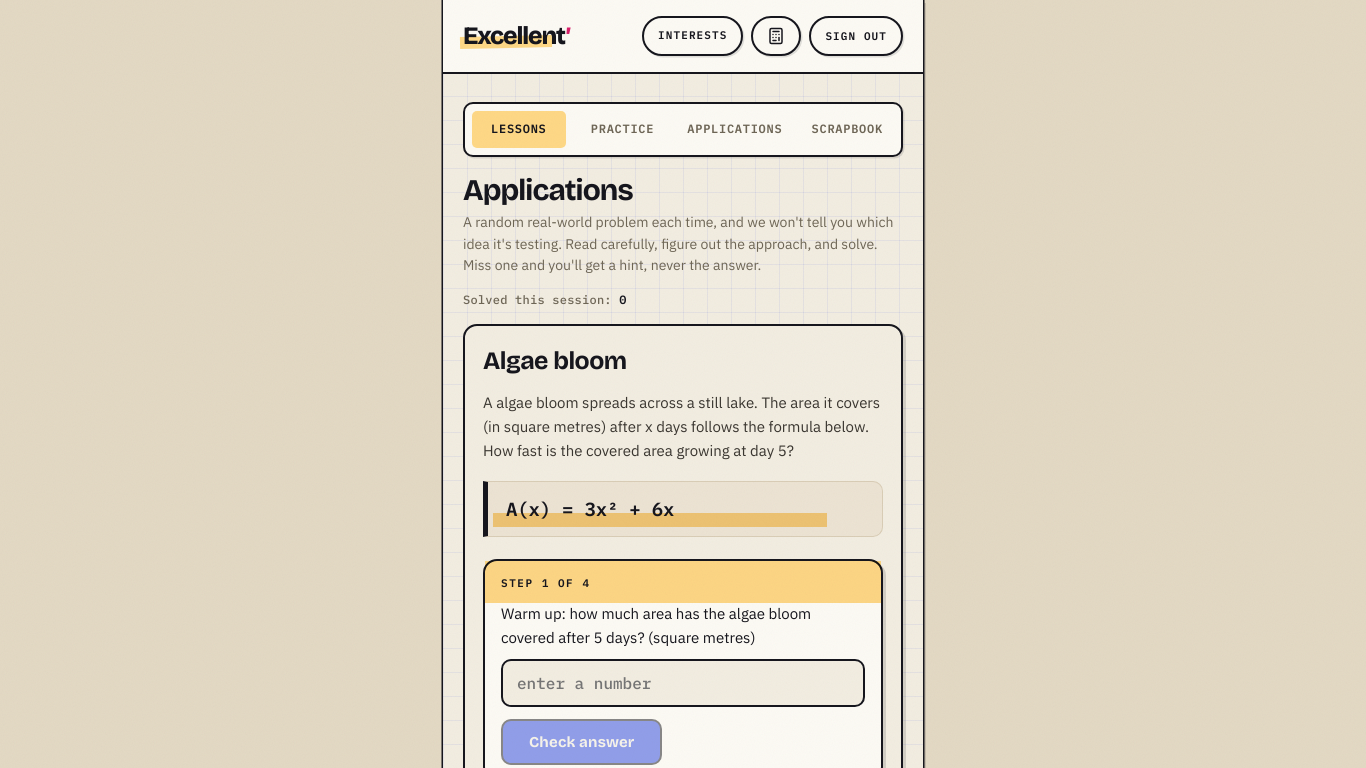
it: ApplicationsPage: shared AppHeader is wired in › opens the Calculator tool modal from the header on the unlocked page
Click the button named "Calculator": (776,36) [751,16,801,56]
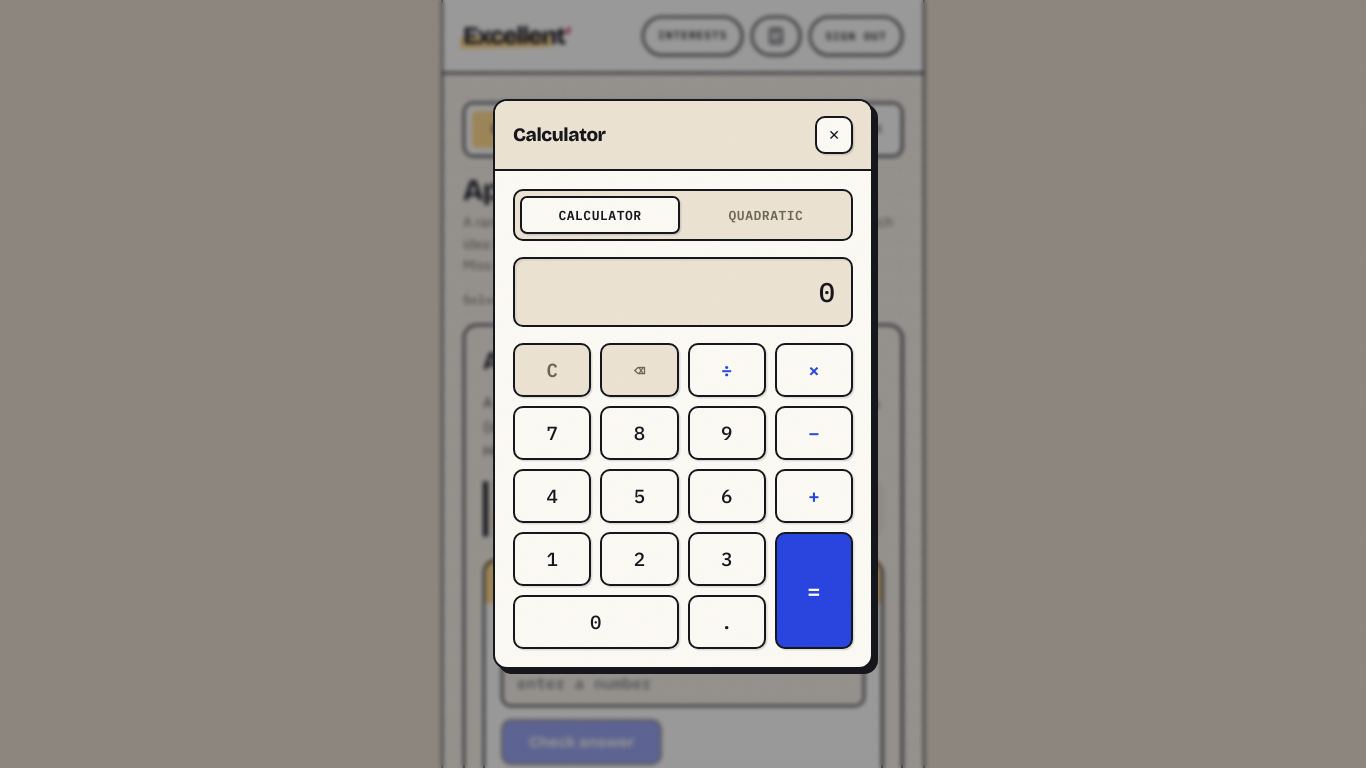
Result: the dialog "Calculator" is shown at [493,99,873,669]
